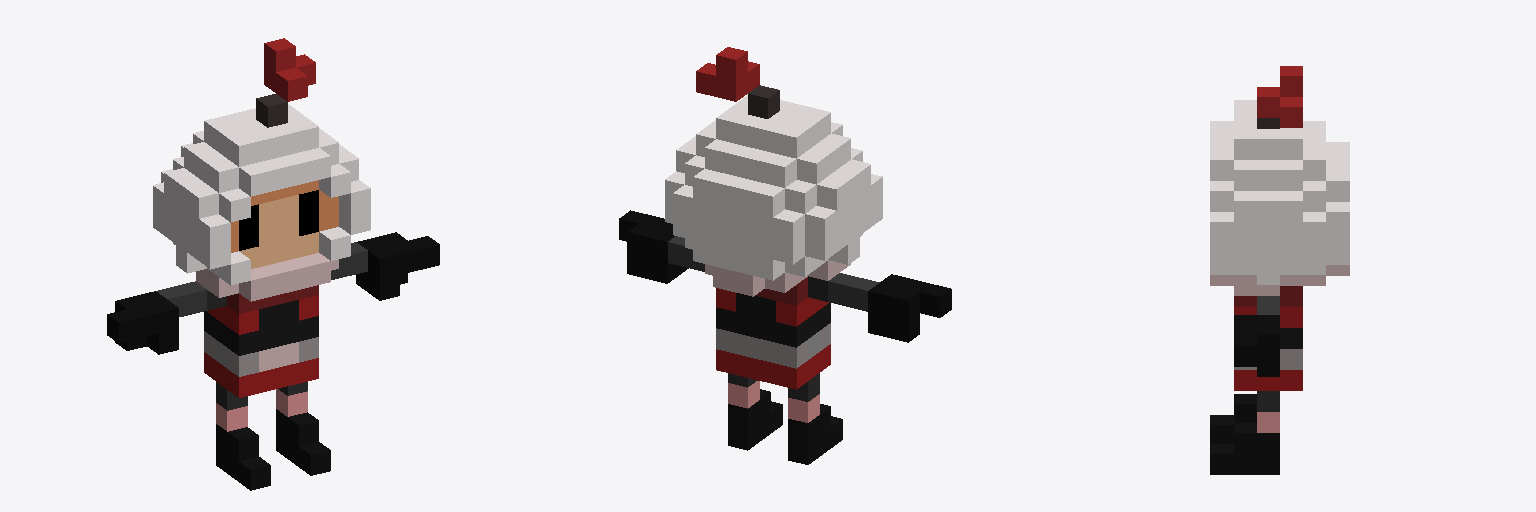
3 views of the same model, side by side, from view 1: azimuth 30°, elevation 25°; view 2: azimuth 150°, elevation 25°; view 3: azimuth 270°, elevation 25° (orthographic).
Size of the model in its own units: 16 by 19 by 6.
Materials: 1 (1 with a texture image).